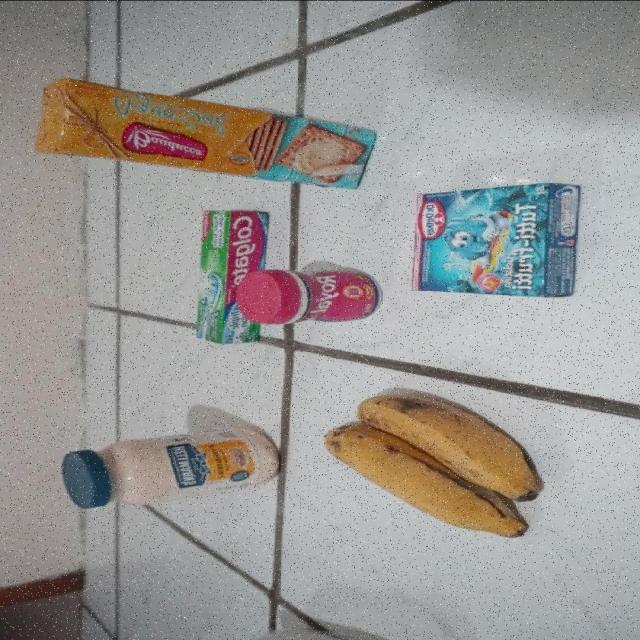Banana: (322, 394, 546, 538)
Cracker: (35, 77, 378, 190)
Gelatine: (412, 181, 582, 300)
Mayonnaise: (59, 428, 278, 510)
Toothpaste: (194, 207, 271, 342)
Yeast: (236, 268, 380, 323)
